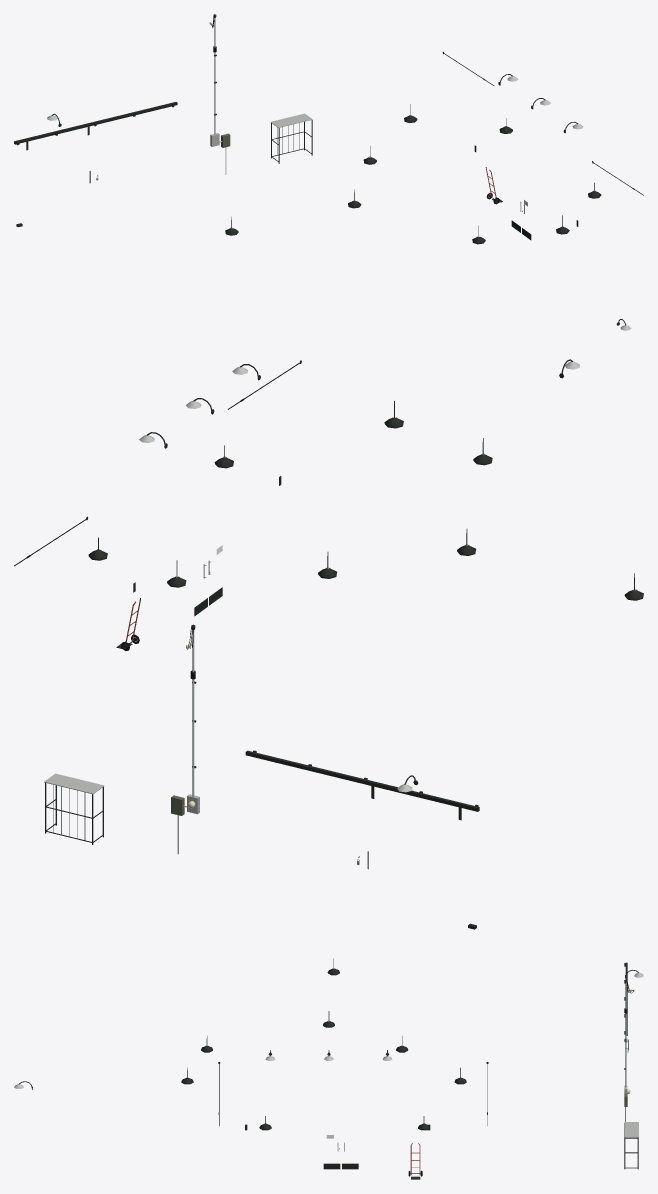
The model's file is SM_Town_Feed_Fixtures_LOD1.fbx.
3 views of the same model, one above another, from view 1: azimuth 30°, elevation 25°; view 2: azimuth 150°, elevation 25°; view 3: azimuth 270°, elevation 25° (orthographic). The views are drawn at different scales.
Parts seen in each view (by area): view 1: SM_Town_Feed_Fixtures_LOD1; view 2: SM_Town_Feed_Fixtures_LOD1; view 3: SM_Town_Feed_Fixtures_LOD1.
Boxes of the visible parts, x1,y1,x2,y2 form: SM_Town_Feed_Fixtures_LOD1: (14,14,643,330); SM_Town_Feed_Fixtures_LOD1: (14,359,643,929); SM_Town_Feed_Fixtures_LOD1: (14,958,643,1179).
Bounding box in the file's own units: 17.11 × 25.83 × 6.68.
